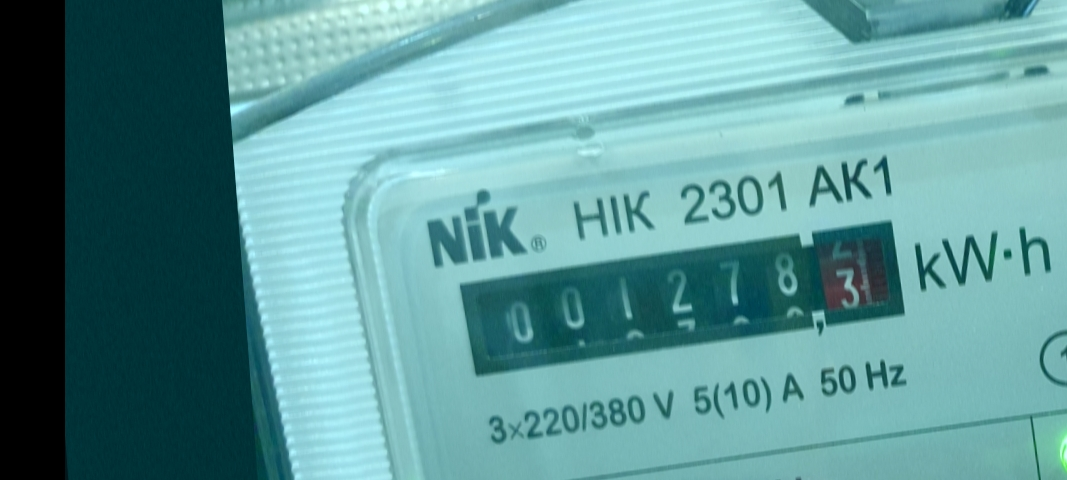0: (510, 295, 541, 345), (562, 283, 590, 331)
1: (620, 273, 640, 322)
2: (667, 265, 698, 314), (831, 238, 858, 261)
3: (836, 263, 866, 308)
7: (722, 257, 747, 307)
8: (775, 249, 804, 298)
screen: (441, 208, 928, 386)
